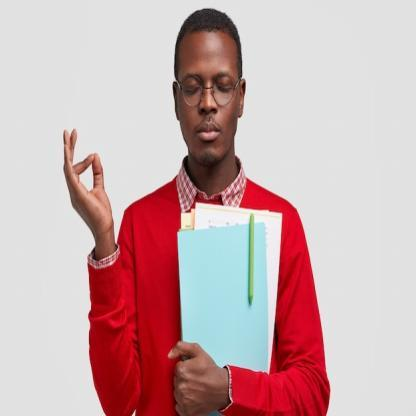ok: (58, 123, 116, 235)
